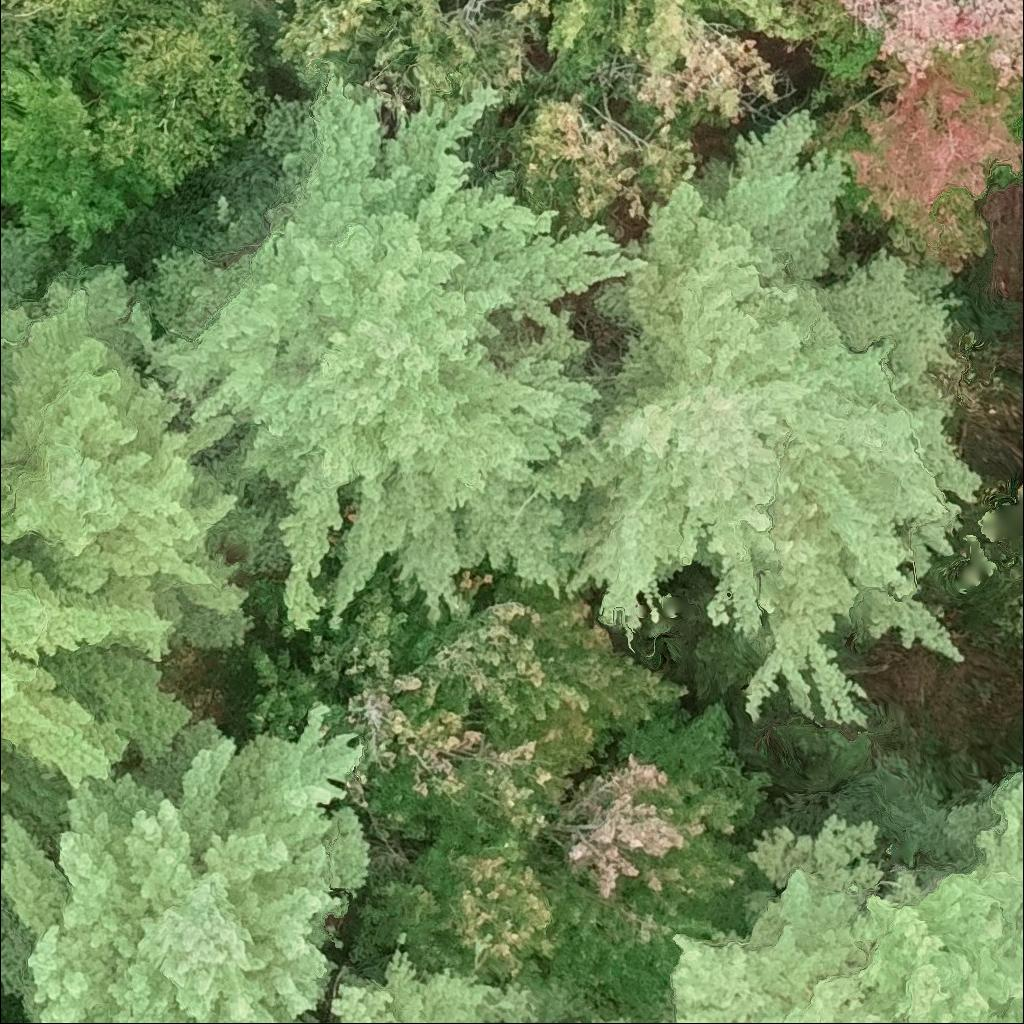crown: (121, 71, 650, 632), (535, 103, 983, 736), (242, 559, 691, 876), (0, 222, 281, 655), (0, 701, 373, 1023), (667, 764, 1023, 1023), (541, 702, 777, 1018), (0, 542, 200, 806), (814, 43, 1023, 278), (499, 0, 821, 131), (71, 0, 270, 208), (467, 84, 709, 233), (268, 0, 539, 130), (362, 819, 564, 982), (322, 933, 674, 1023), (786, 0, 1023, 90), (0, 153, 140, 255), (0, 0, 187, 74), (0, 55, 103, 177), (1001, 555, 1023, 638), (228, 0, 275, 25)
